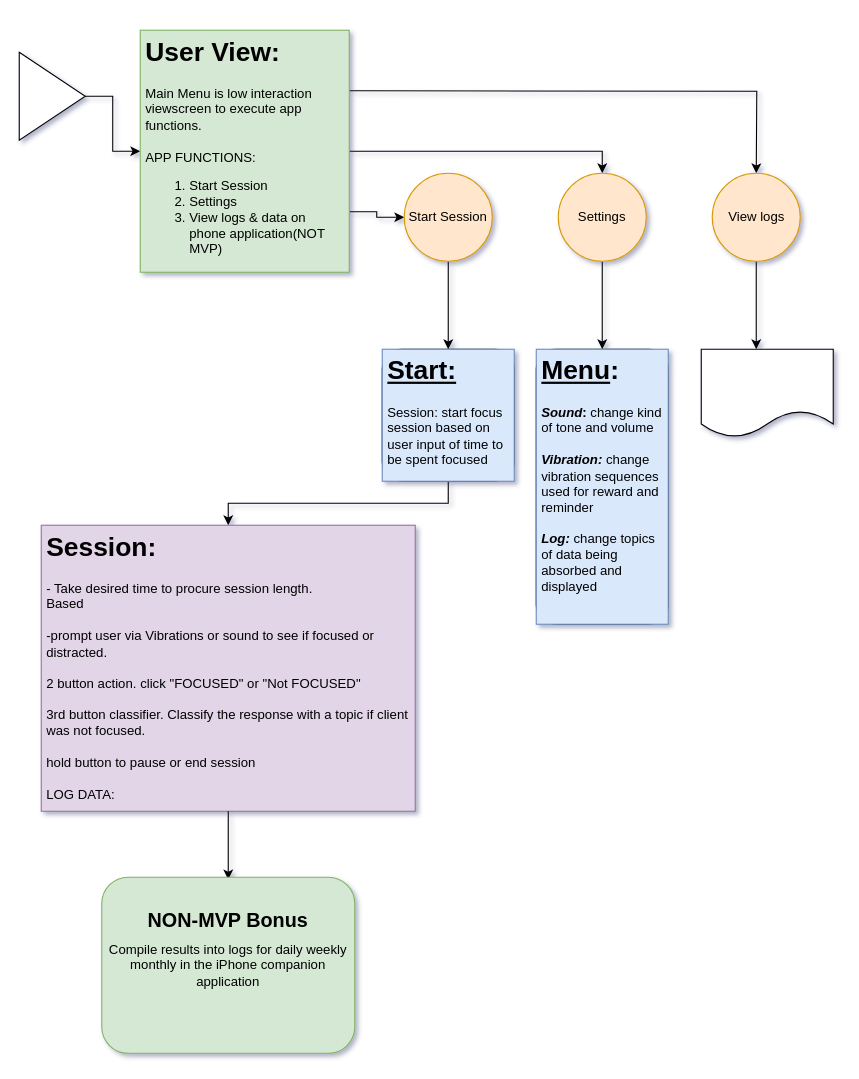
Image size: 859x1079. Some labels were removed from this diagram. Each missing label, with the centre of its shape:
"GRAPHS AND DATA LOGS ON IPHONE" goes at pixel 766 392.
"User Signs on" goes at pixel 51 95.
